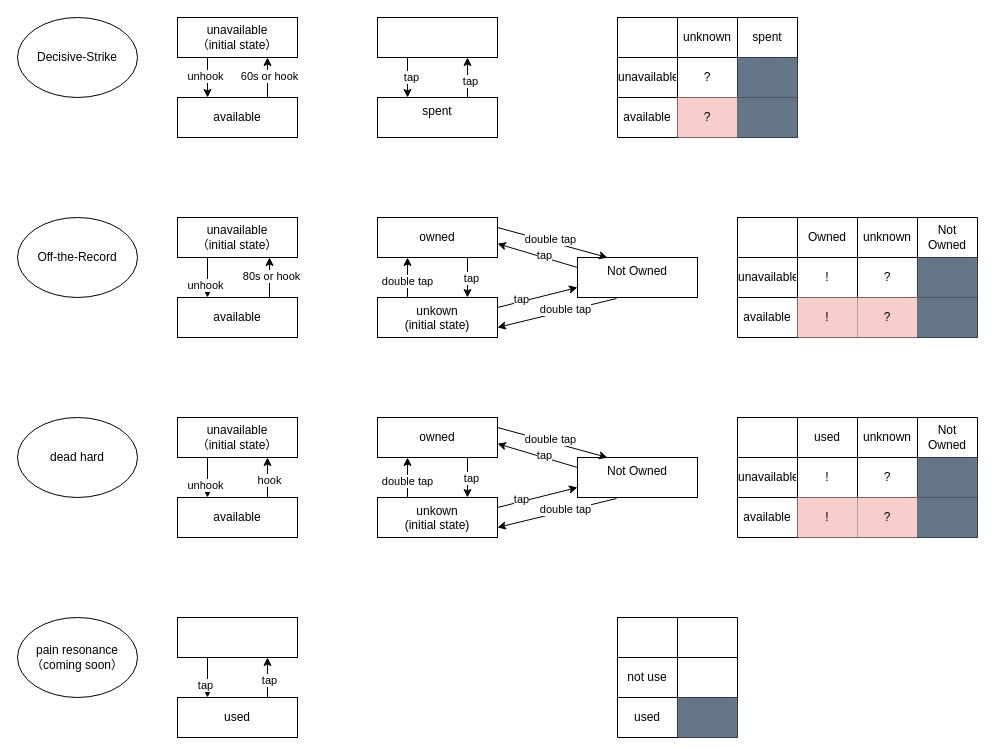
Some shapes in this 995 by 755 pixel diagram are drawn without their labels. Here are the shapes that lost their labels. From the top down, the box of each, then its label:
(376, 16, 498, 58): unknown (initial state)
(176, 616, 298, 658): not use (initial)
